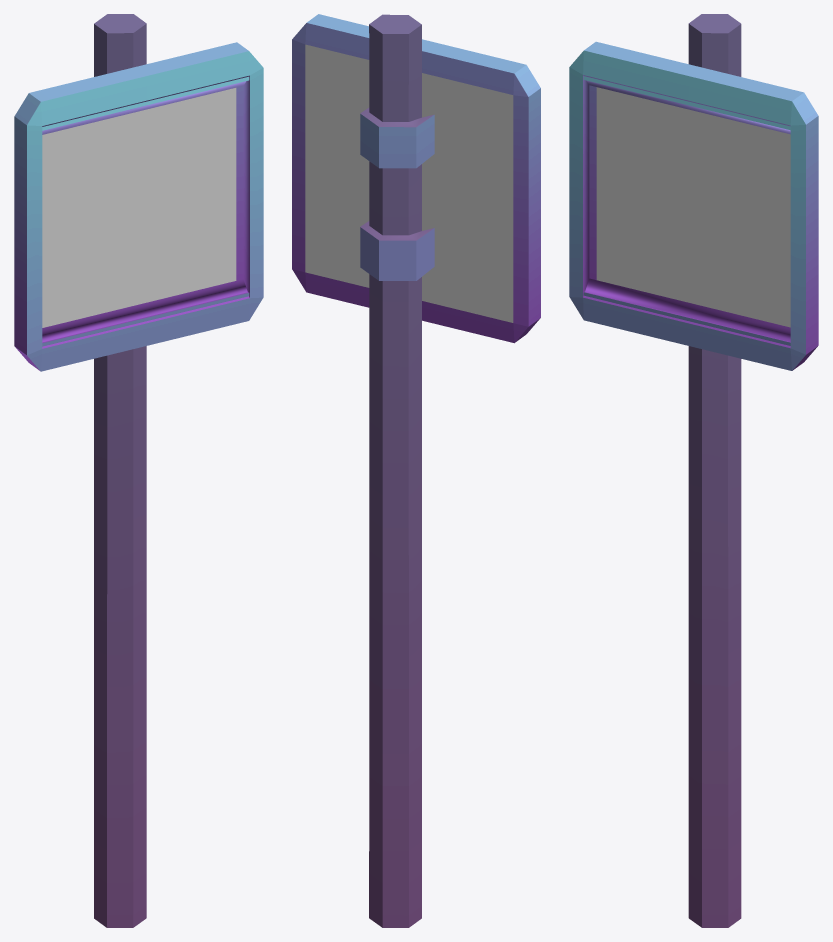
File: signs3.fbx
The picture shows the model from 3 angles, left to right: view 1: azimuth 30°, elevation 25°; view 2: azimuth 150°, elevation 25°; view 3: azimuth 330°, elevation 25°; orthographic projection.
Visible parts, largest first — view 1: sign.002; view 2: sign.002; view 3: sign.002.
Boxes of the visible parts, box(x1,y1,x2,y2) form: sign.002: box(14, 14, 263, 927); sign.002: box(292, 14, 540, 927); sign.002: box(569, 14, 818, 927).
Bounding box in the file's own units: 335 × 1211 × 106.
Materials: 2 (1 with a texture image).
